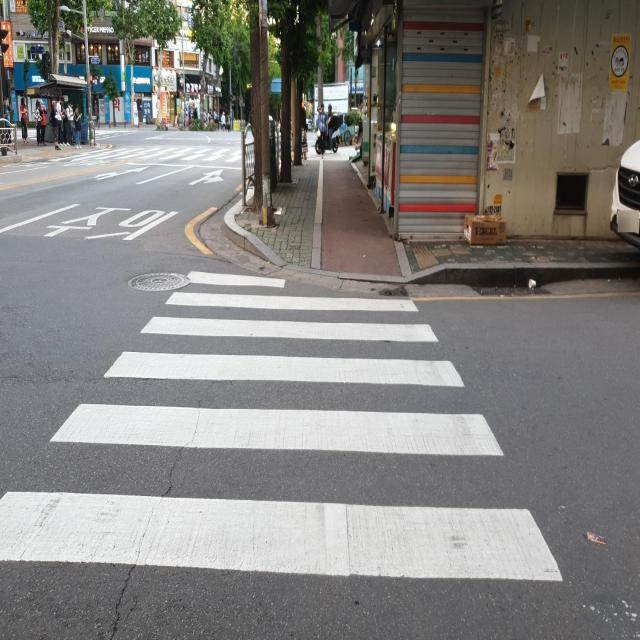횡단보도: (0, 268, 564, 586), (56, 146, 257, 171)
